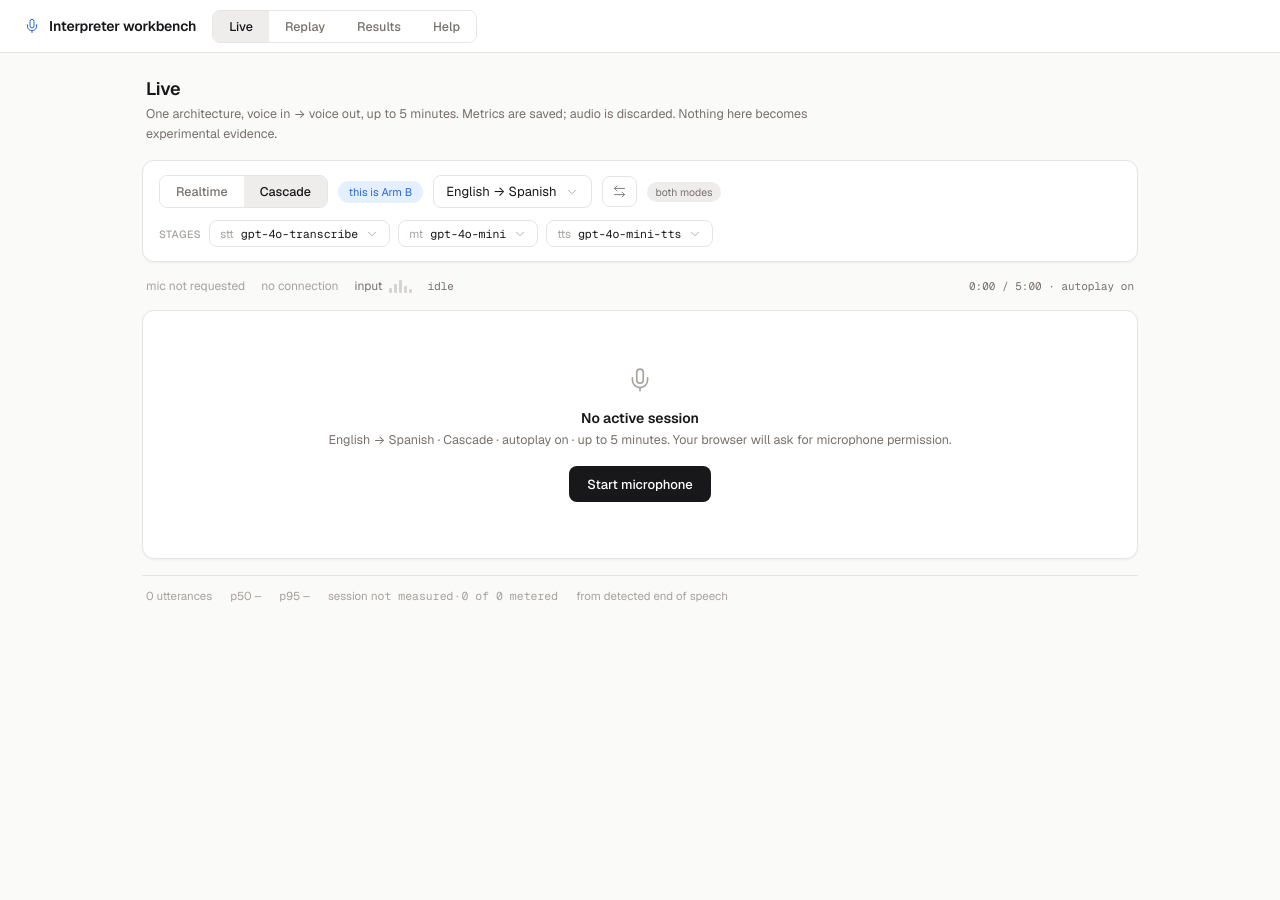
Test: the notice never outlives the session it describes (round 2) › R2-2: STOP ends it — a stopped session is not "still running and still being measured"
The image size is (1280, 900).
Click the button "Start microphone". click: click(640, 484)
box: [569, 466, 711, 502]
Wait 1300 ms
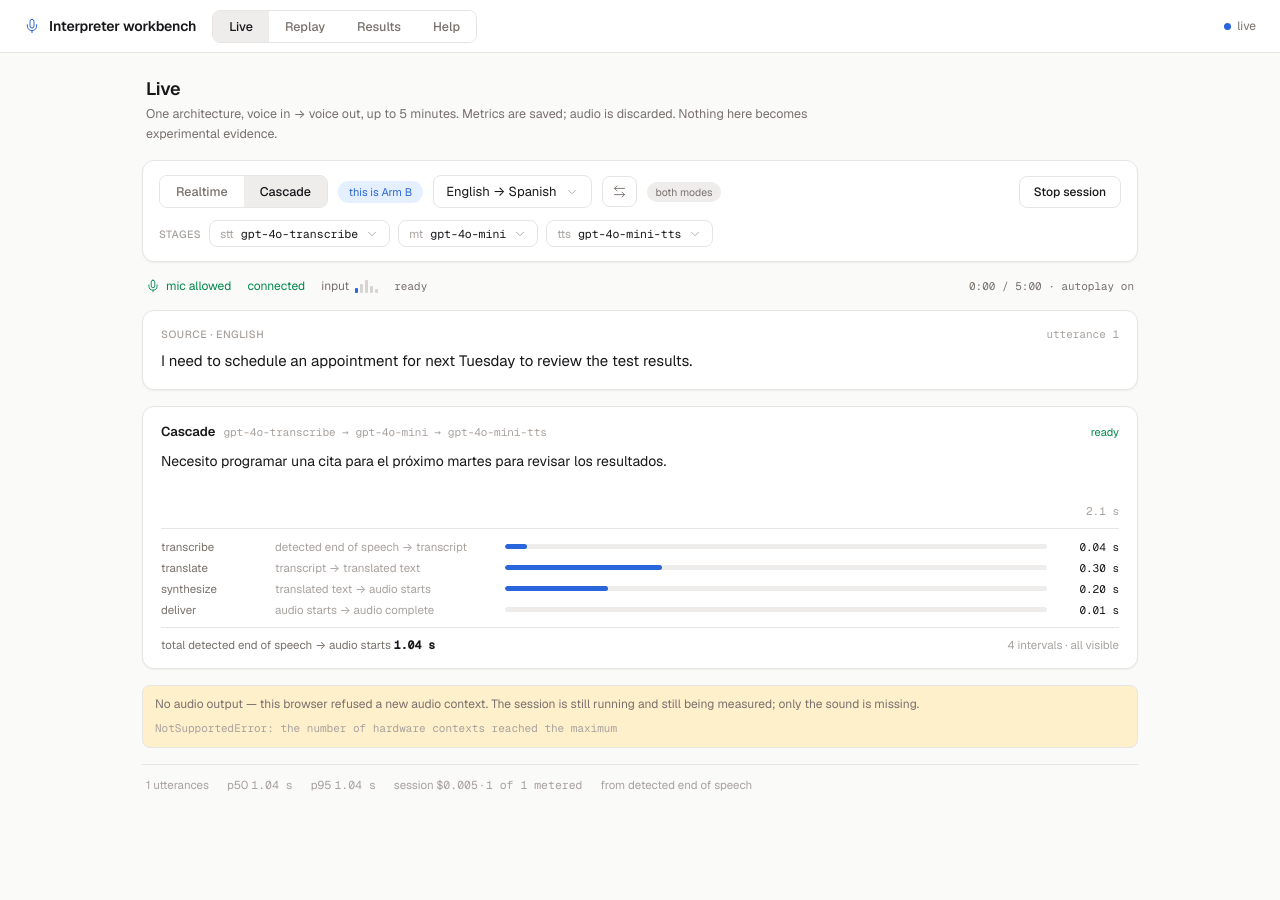
expect the message is shown: met, box [142, 685, 1138, 748]
Click the button "Stop session". click: click(1070, 192)
box: [1019, 176, 1121, 208]
Wait 10 ms
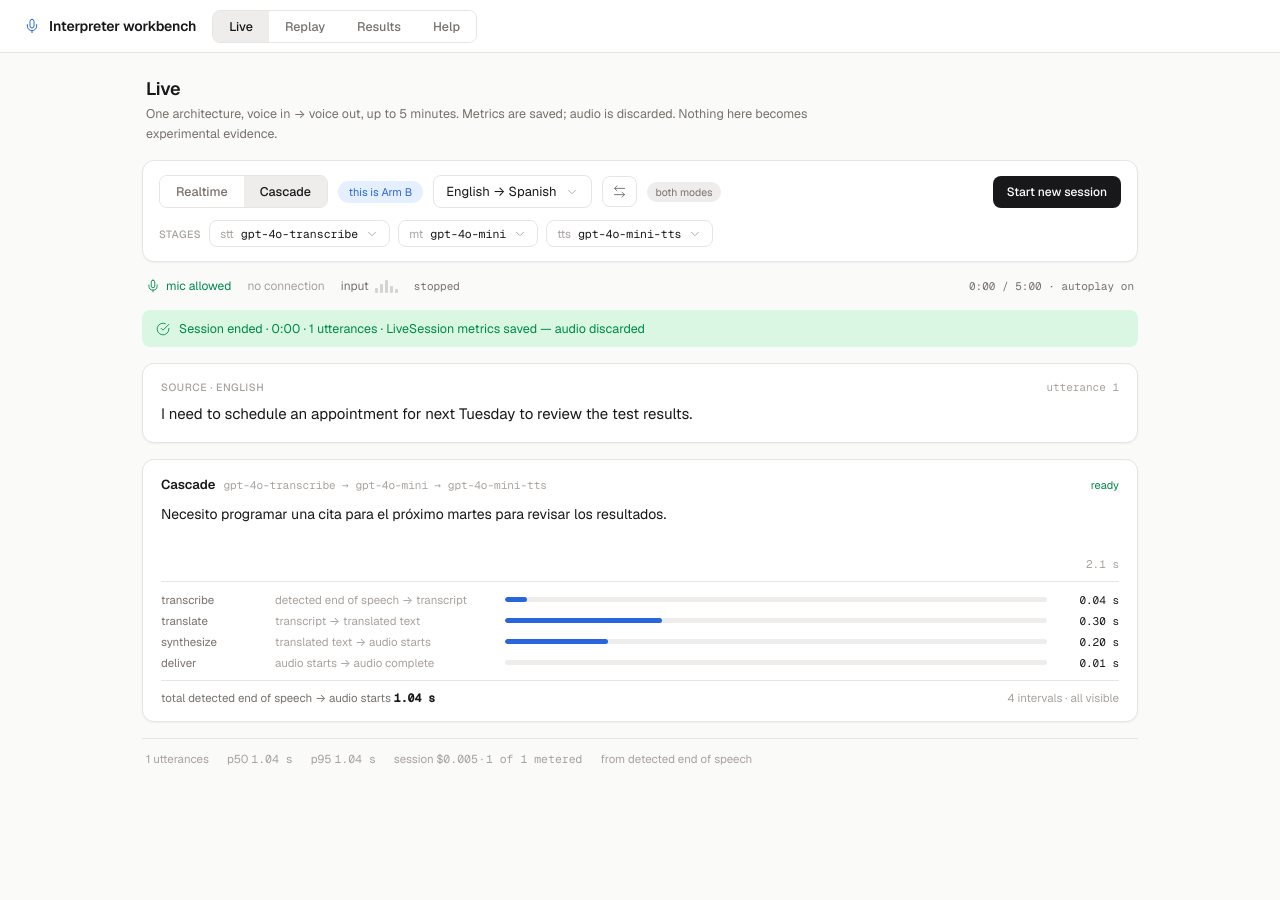
expect the element that starts with "Cascade" is shown: met, box [142, 459, 1138, 722]
expect the button "Start new session" is shown: met, box [993, 176, 1121, 208]
